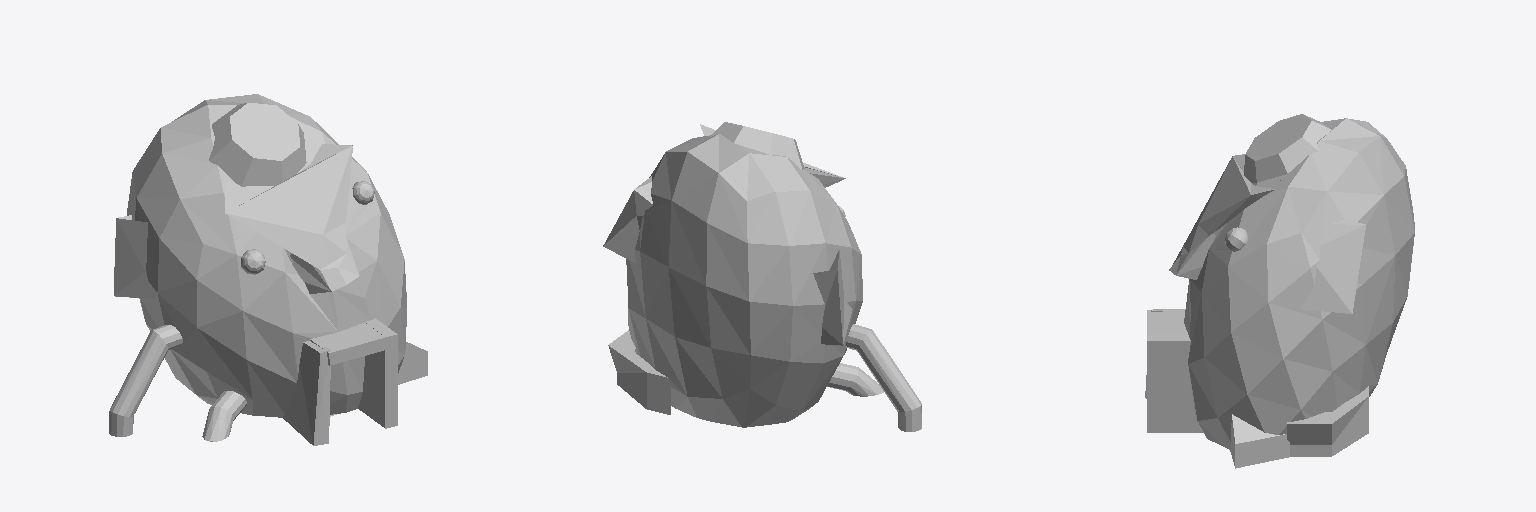
Rendered from Monument Final Model.obj.
The picture shows the model from 3 angles: view 1: azimuth 30°, elevation 25°; view 2: azimuth 150°, elevation 25°; view 3: azimuth 270°, elevation 25°; orthographic projection.
Visible parts, largest first — view 1: Monument_double_mesh:s_0112; view 2: Monument_double_mesh:s_0112; view 3: Monument_double_mesh:s_0112.
Part boxes in pixels (x1,y1,x2,y2): Monument_double_mesh:s_0112: (109, 94, 427, 445); Monument_double_mesh:s_0112: (603, 122, 921, 431); Monument_double_mesh:s_0112: (1145, 114, 1414, 468).
Size of the model in its own units: 246 by 220 by 193.